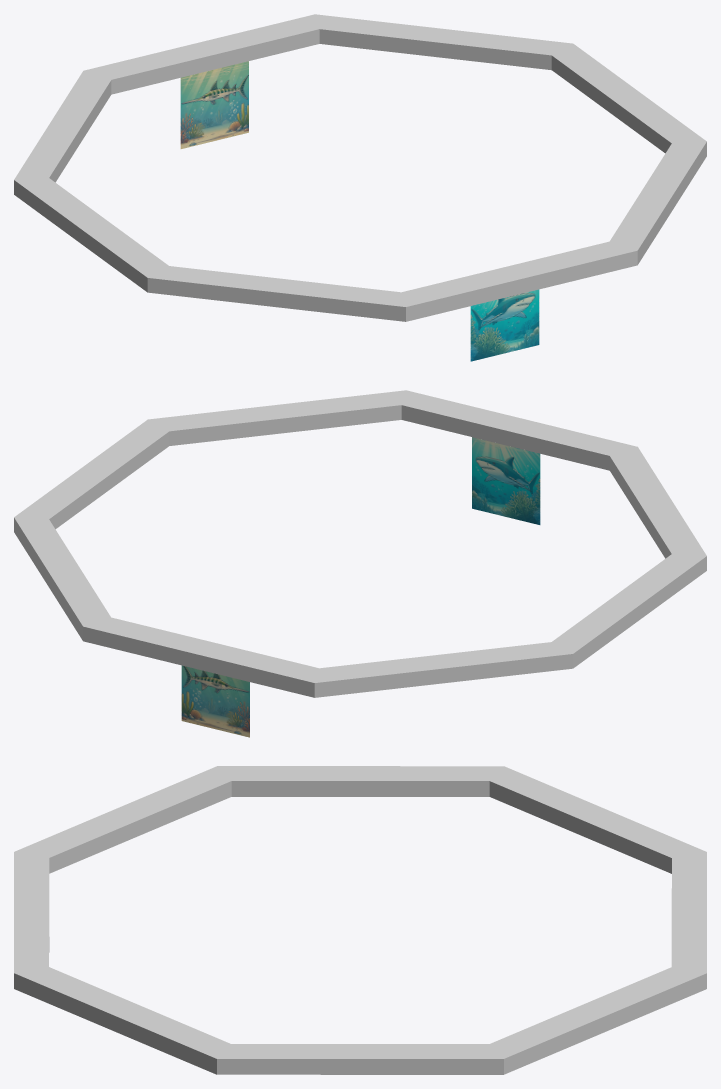
The model's file is octagon.dae.
The picture shows the model from 3 angles, top to bottom: view 1: azimuth 30°, elevation 25°; view 2: azimuth 150°, elevation 25°; view 3: azimuth 270°, elevation 25°; orthographic projection. The views are drawn at different scales.
Parts seen in each view (by area): view 1: Circle, Plane.001, Plane; view 2: Circle, Plane, Plane.001; view 3: Circle.
Part boxes in pixels (x1,y1,x2,y2): Circle: (14,14,706,321); Plane.001: (180,61,248,148); Plane: (470,289,539,361); Circle: (14,390,706,697); Plane: (472,437,540,524); Plane.001: (181,665,249,737); Circle: (14,766,706,1074).
Bounding box in the file's own units: 2.49 × 2.49 × 0.368.
Materials: 2 (2 with a texture image).
